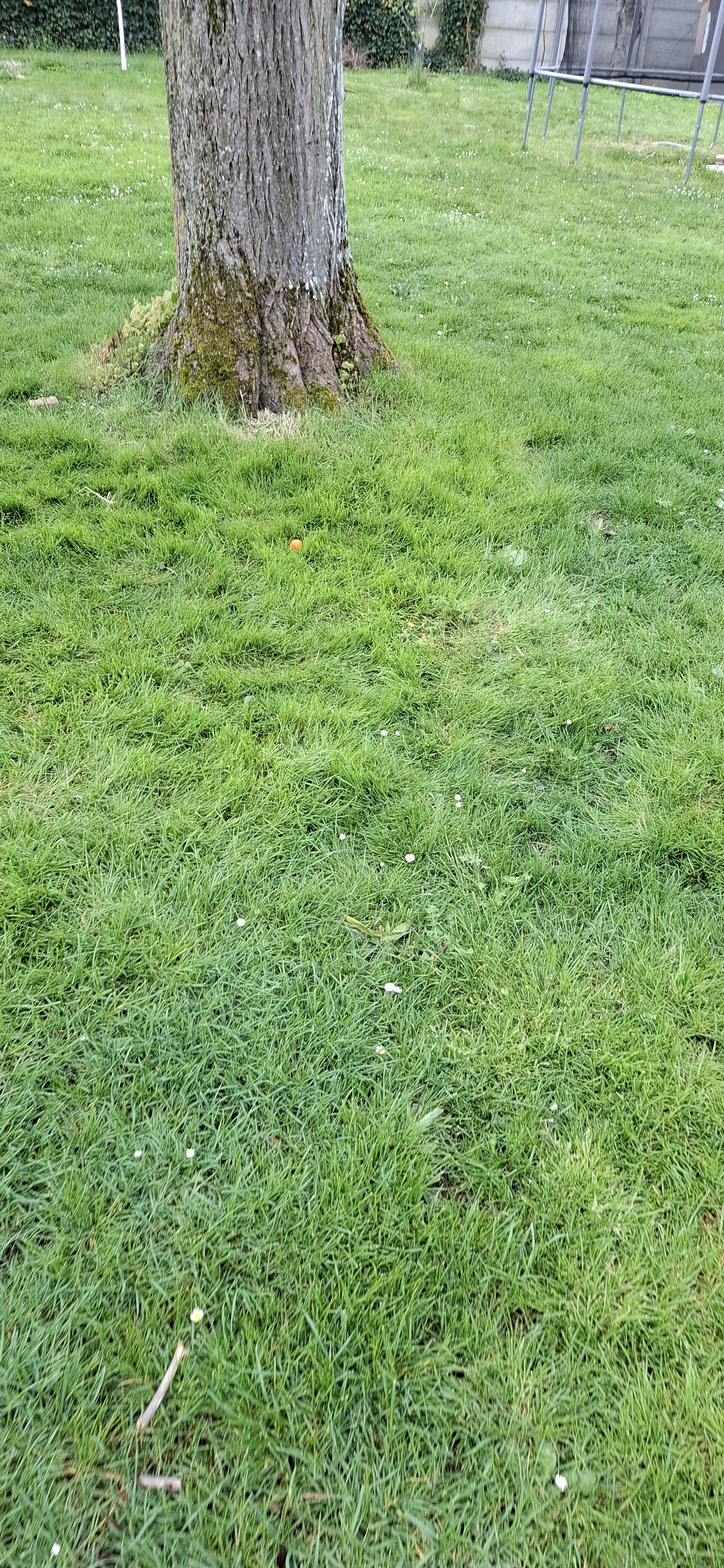ball: (249, 914, 255, 940)
